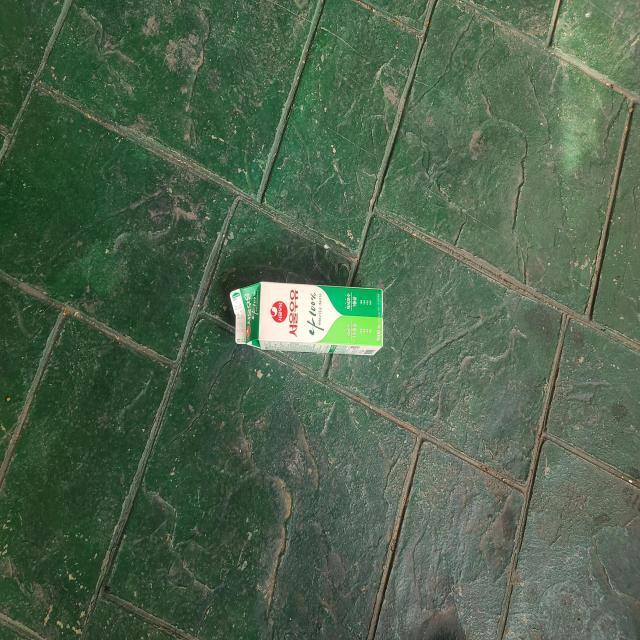paperpack: (230, 281, 384, 355)
